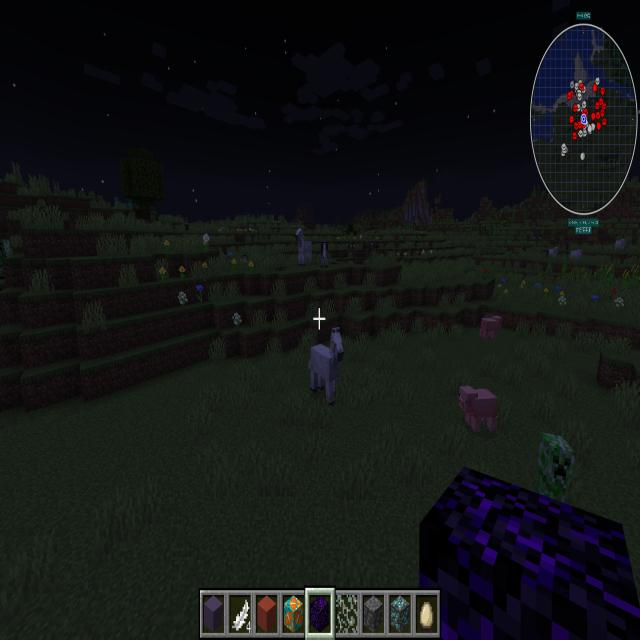Creeper: (534, 427, 577, 508), (0, 236, 13, 284)
Zombie: (124, 197, 132, 213)
